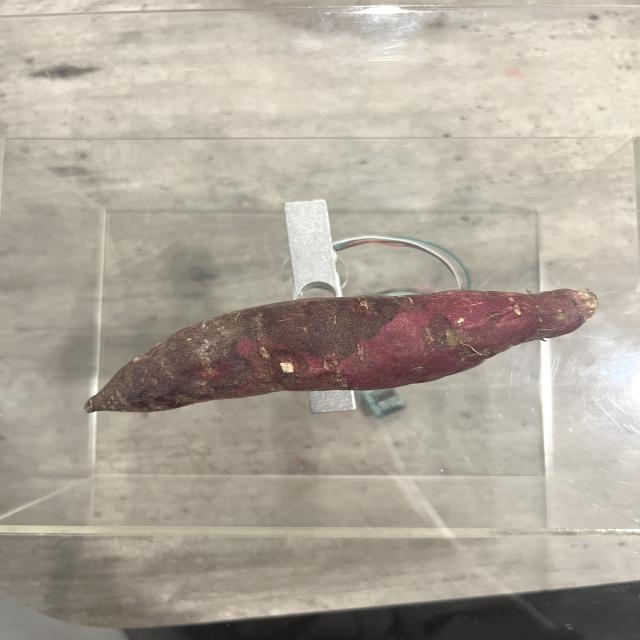sweet potato: (90, 286, 588, 414)
